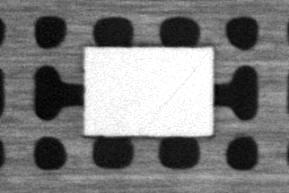DIE_CRACK: (159, 63, 202, 106)
